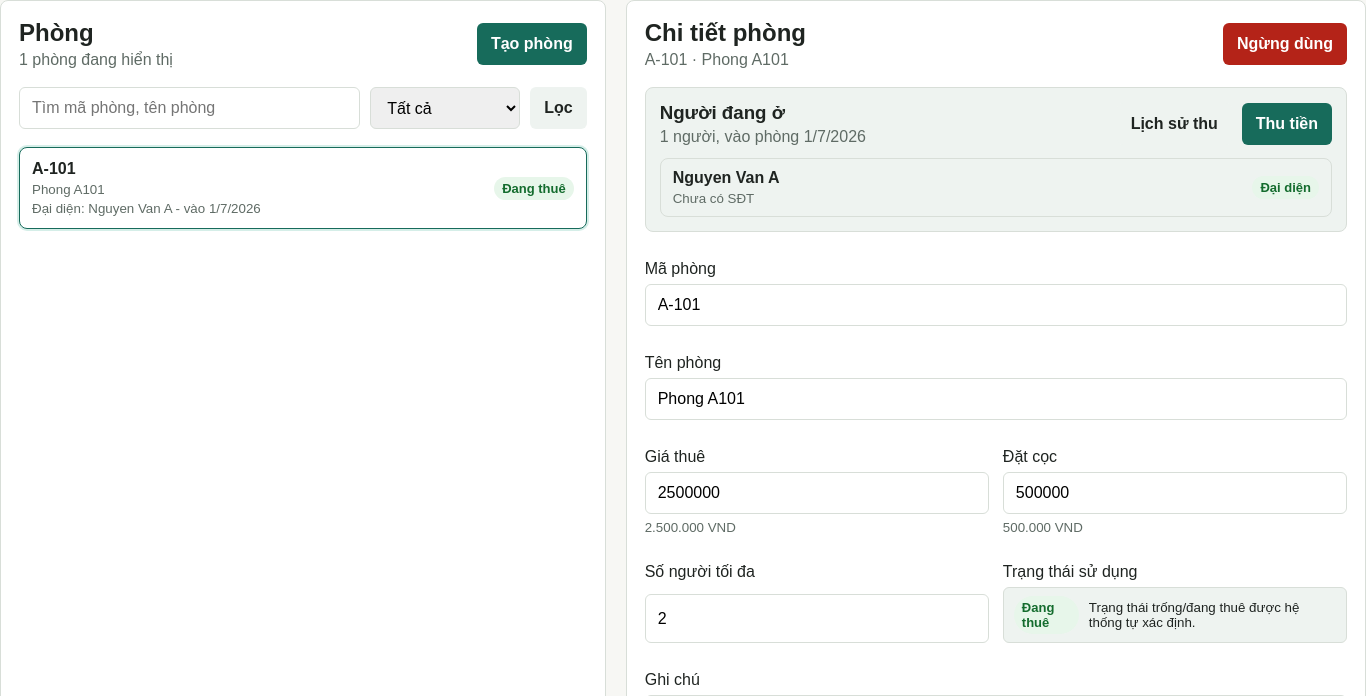
Test: RoomsPage › opens receipt history from an occupied room
Click the button "Lịch sử thu". click: x=1174, y=124
box: [1117,103,1232,145]
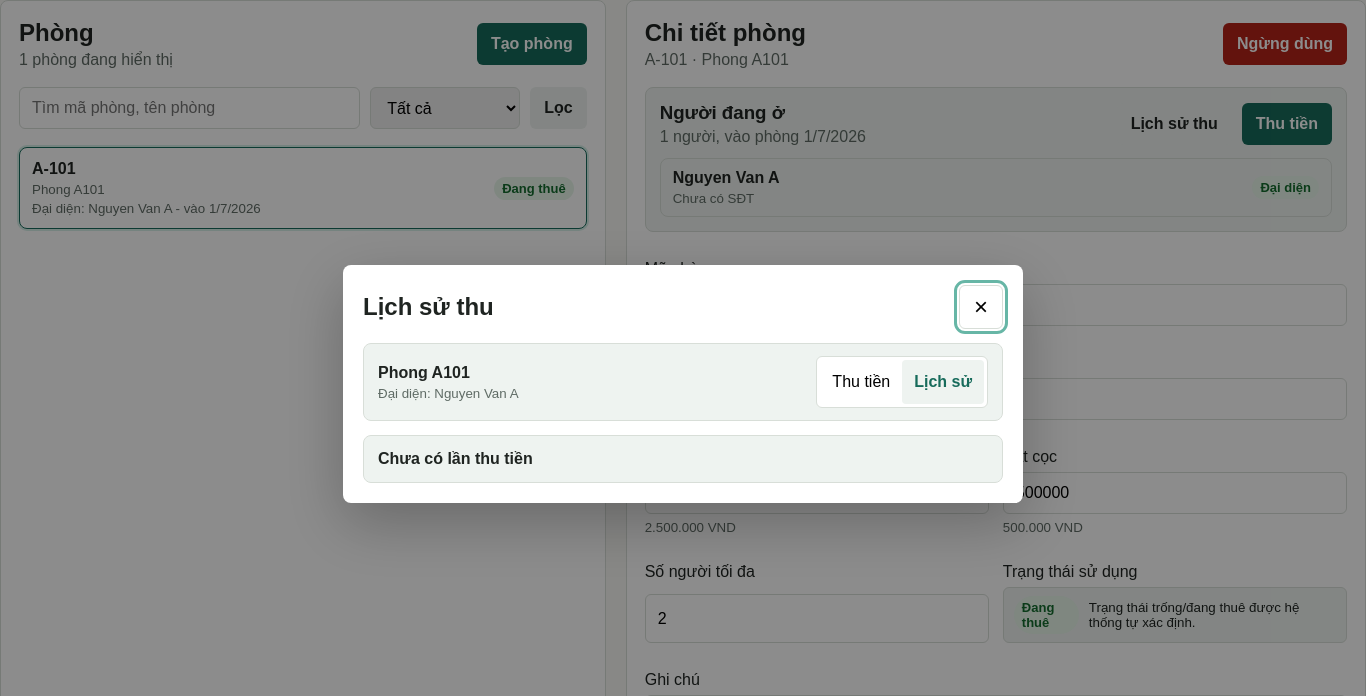
expect the dialog shows "Chưa có lần thu tiền": met, box [378,450,533,467]
